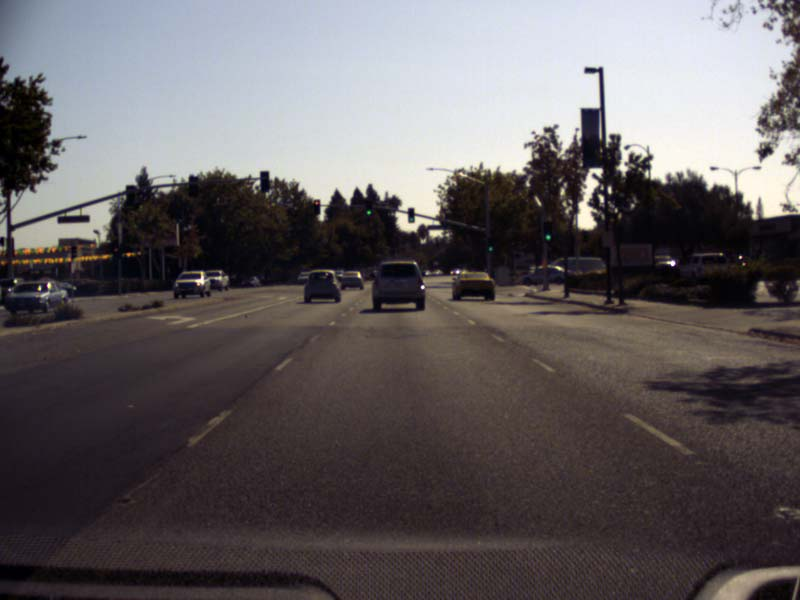Green: (542, 221, 552, 241), (364, 200, 372, 216), (487, 238, 493, 253), (408, 208, 414, 222)
Red: (313, 200, 320, 213)
Yellow: (112, 246, 118, 252)
